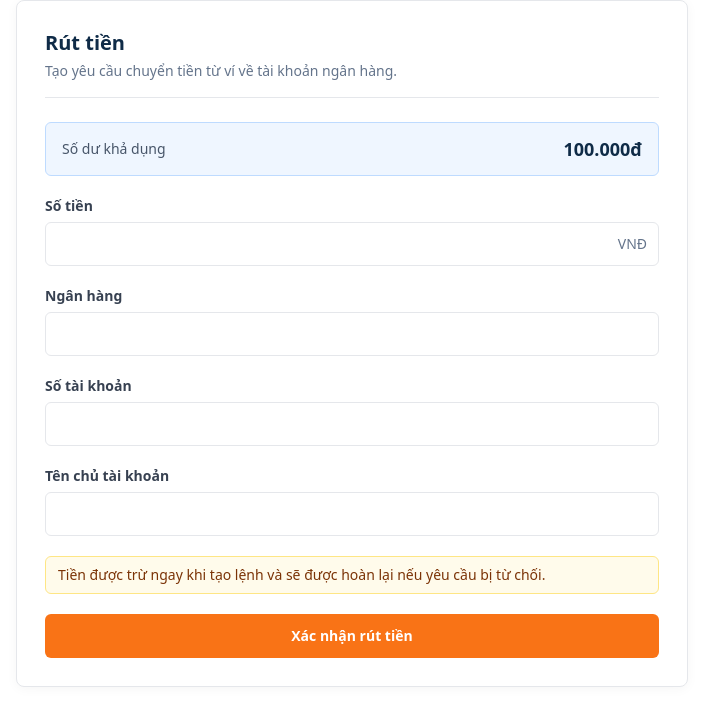
Test case: WithdrawalForm › validates the minimum amount and available balance inline
The width and height of the screenshot is (705, 724).
Expected: the text "100.000đ" is shown, [563,135,642,163]
Type "MBBank" into the field labelled "Ngân hàng" at (352, 334), box [45,312,659,356]
Type "123456789" into the field labelled "Số tài khoản" at (352, 424), box [45,402,659,446]
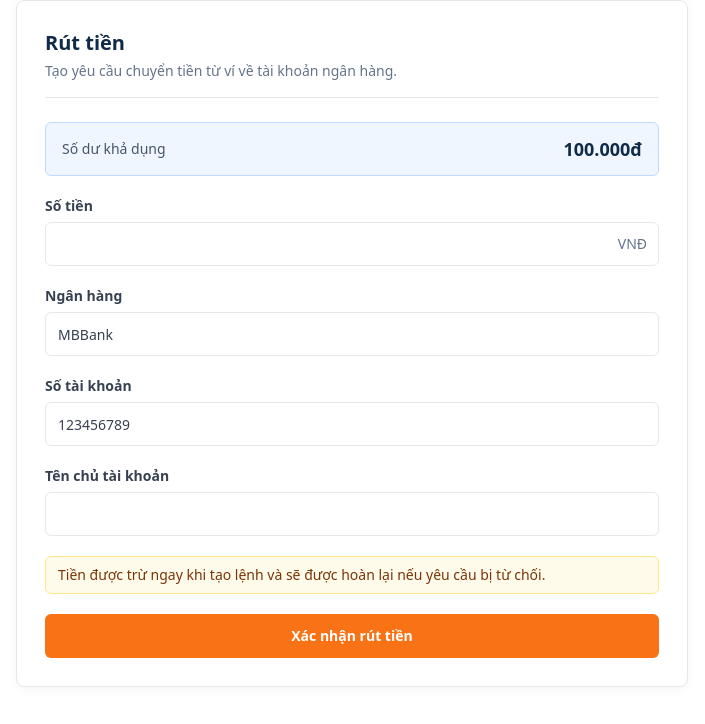
Type "Nguyen Van A" into the field labelled "Tên chủ tài khoản" at (352, 514), box [45,492,659,536]
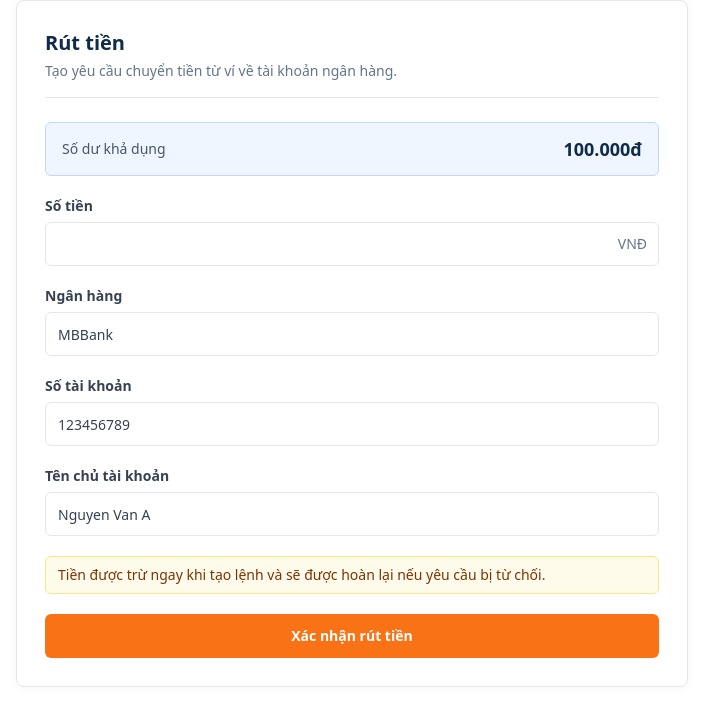
Type "40000" into the number field labelled "Số tiền VNĐ" at (352, 244), box [45,222,659,266]
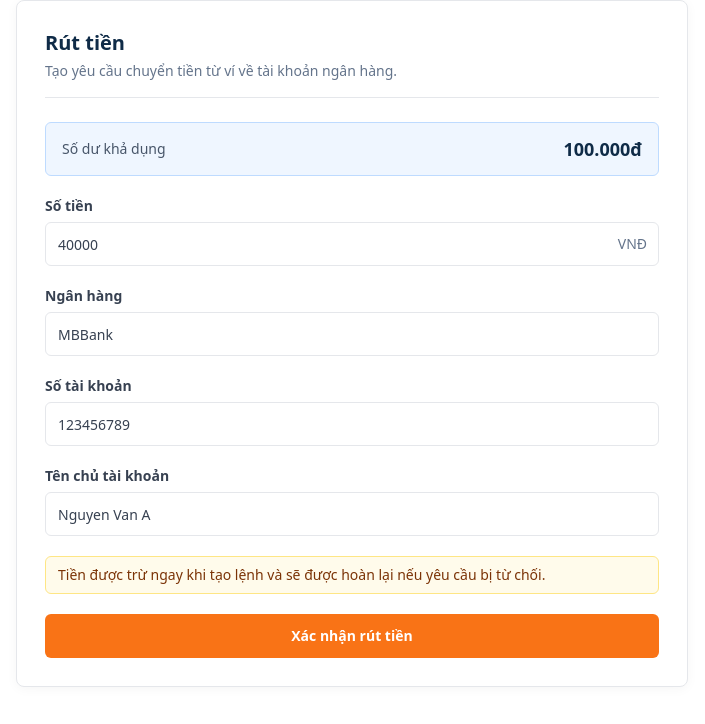
Click the button "Xác nhận rút tiền" at (352, 636), box [45,614,659,658]
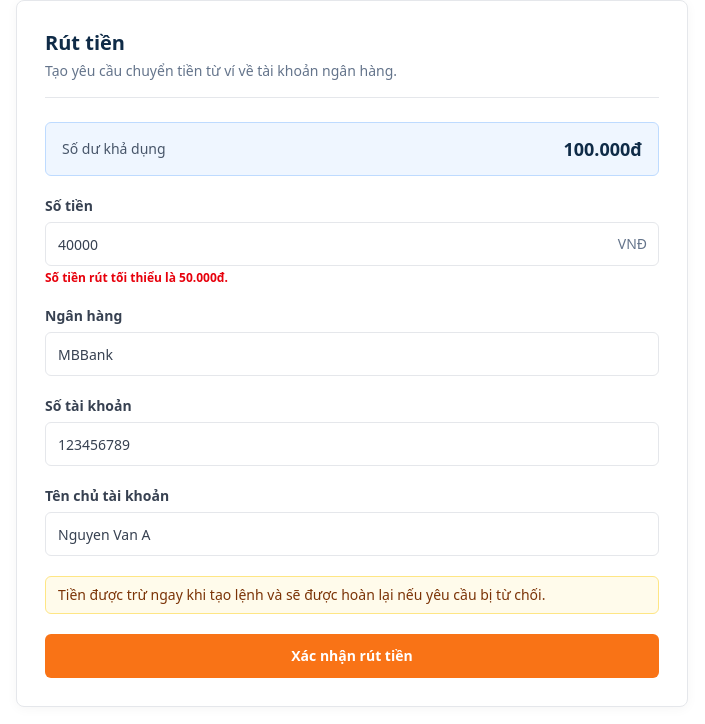
Now the text "Số tiền rút tối thiểu là 50.000đ." is shown, box [45,269,228,286]
Replace the text in the number field labelled "Số tiền VNĐ Số tiền rút tối thiểu là 50.000đ." with "150000" at (352, 244), box [45,222,659,266]
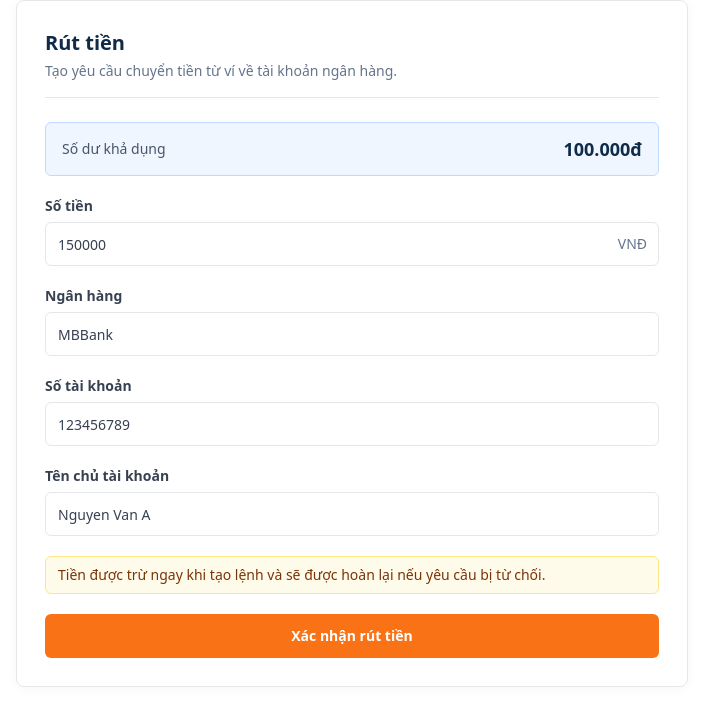
Click the button "Xác nhận rút tiền" at (352, 636), box [45,614,659,658]
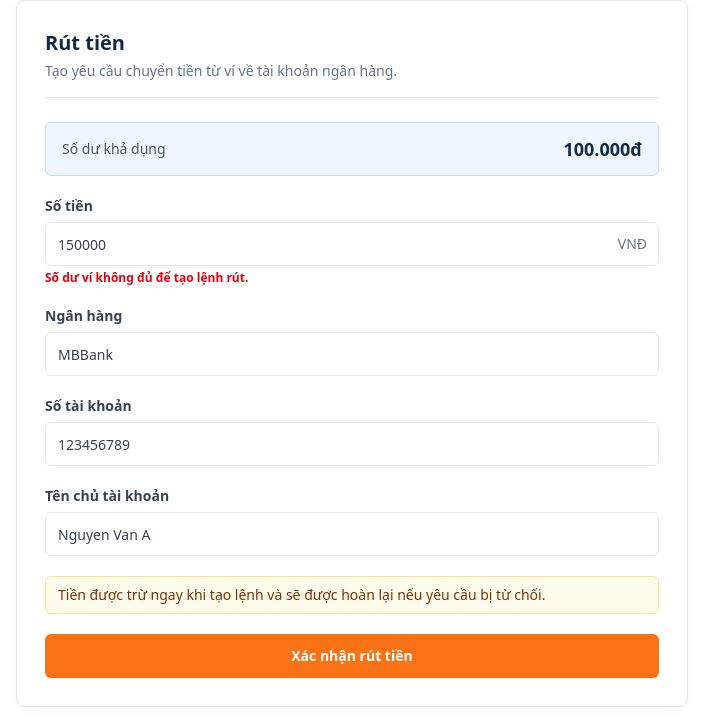
Now the text "Số dư ví không đủ để tạo lệnh rút." is shown, box [45,269,248,286]
